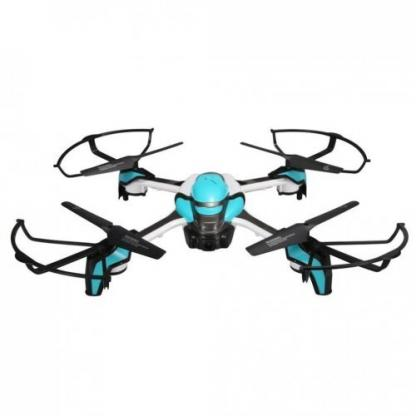drone: (8, 113, 411, 310)
